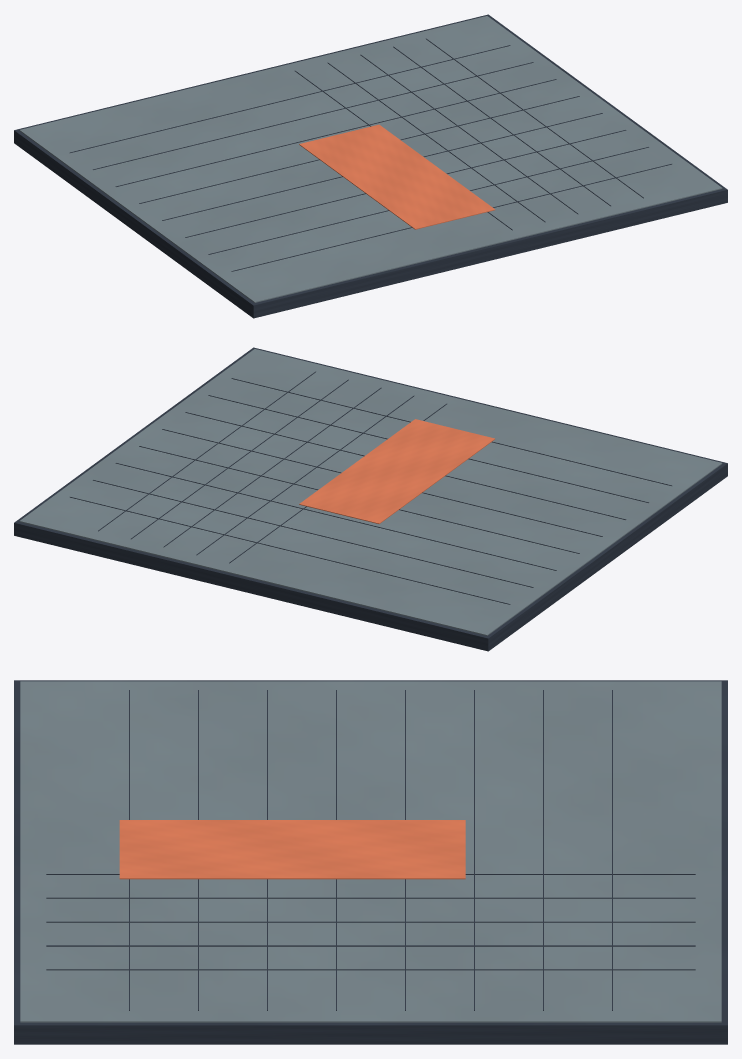
The model's file is atlas100-s023-a07.lod2.glb.
The picture shows the model from 3 angles, top to bottom: view 1: azimuth 30°, elevation 25°; view 2: azimuth 150°, elevation 25°; view 3: azimuth 270°, elevation 25°; orthographic projection. The views are drawn at different scales.
Visible parts, largest first — view 1: atlas100-s023-a07:part-001, atlas100-s023-a07:part-000, atlas100-s023-a07:part-021, atlas100-s023-a07:part-013, atlas100-s023-a07:part-014, atlas100-s023-a07:part-015, atlas100-s023-a07:part-020, atlas100-s023-a07:part-018, atlas100-s023-a07:part-019, atlas100-s023-a07:part-017, atlas100-s023-a07:part-016; view 2: atlas100-s023-a07:part-001, atlas100-s023-a07:part-000, atlas100-s023-a07:part-021, atlas100-s023-a07:part-013, atlas100-s023-a07:part-014, atlas100-s023-a07:part-015, atlas100-s023-a07:part-019, atlas100-s023-a07:part-020, atlas100-s023-a07:part-016, atlas100-s023-a07:part-018, atlas100-s023-a07:part-017; view 3: atlas100-s023-a07:part-001, atlas100-s023-a07:part-000, atlas100-s023-a07:part-021, atlas100-s023-a07:part-010, atlas100-s023-a07:part-011, atlas100-s023-a07:part-012, atlas100-s023-a07:part-009.
Part boxes in pixels (x1,y1,x2,y2): atlas100-s023-a07:part-001: (19, 16, 722, 302); atlas100-s023-a07:part-000: (14, 14, 727, 318); atlas100-s023-a07:part-021: (299, 124, 495, 229); atlas100-s023-a07:part-013: (70, 45, 510, 152); atlas100-s023-a07:part-014: (93, 62, 533, 169); atlas100-s023-a07:part-015: (115, 79, 556, 186); atlas100-s023-a07:part-020: (231, 164, 671, 271); atlas100-s023-a07:part-018: (185, 130, 626, 237); atlas100-s023-a07:part-019: (208, 147, 648, 254); atlas100-s023-a07:part-017: (162, 113, 602, 220); atlas100-s023-a07:part-016: (139, 96, 579, 203); atlas100-s023-a07:part-001: (19, 349, 722, 635); atlas100-s023-a07:part-000: (14, 347, 727, 651); atlas100-s023-a07:part-021: (299, 419, 494, 523); atlas100-s023-a07:part-013: (70, 497, 510, 604); atlas100-s023-a07:part-014: (93, 480, 533, 587); atlas100-s023-a07:part-015: (115, 463, 556, 570); atlas100-s023-a07:part-019: (208, 395, 648, 502); atlas100-s023-a07:part-020: (231, 378, 671, 485); atlas100-s023-a07:part-016: (139, 446, 579, 553); atlas100-s023-a07:part-018: (185, 412, 626, 519); atlas100-s023-a07:part-017: (162, 429, 602, 536); atlas100-s023-a07:part-001: (20, 681, 721, 1022); atlas100-s023-a07:part-000: (14, 680, 727, 1044); atlas100-s023-a07:part-021: (119, 820, 465, 879); atlas100-s023-a07:part-010: (46, 921, 695, 922); atlas100-s023-a07:part-011: (46, 945, 695, 946); atlas100-s023-a07:part-012: (46, 969, 695, 970); atlas100-s023-a07:part-009: (46, 897, 695, 898).
Bounding box in the file's own units: 13.02 × 0.404 × 11.39.
Materials: 3 (3 with a texture image).
